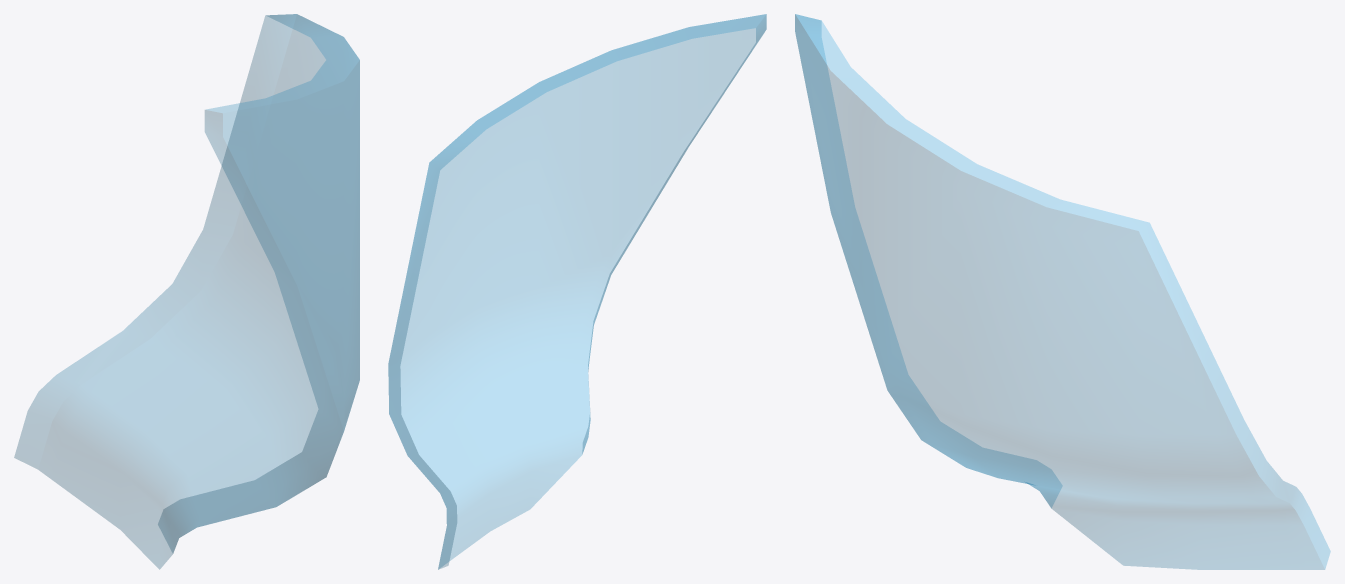
The model's file is p_hvs_minidungeon_rewardlocker_shatterglass_part011.fbx.
The picture shows the model from 3 angles, left to right: view 1: azimuth 30°, elevation 25°; view 2: azimuth 150°, elevation 25°; view 3: azimuth 270°, elevation 25°; orthographic projection. The views are drawn at different scales.
Visible parts, largest first — view 1: 11_shatterglass; view 2: 11_shatterglass; view 3: 11_shatterglass.
Part boxes in pixels (x1,y1,x2,y2): 11_shatterglass: (14, 14, 359, 569); 11_shatterglass: (388, 14, 766, 569); 11_shatterglass: (795, 14, 1330, 569).
Size of the model in its own units: 1.07 by 2.22 by 2.18.
